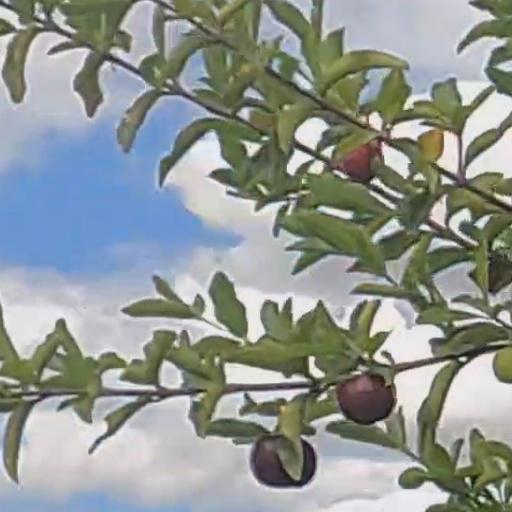acerola: (253, 436, 312, 487), (337, 376, 395, 423), (336, 144, 382, 181)
